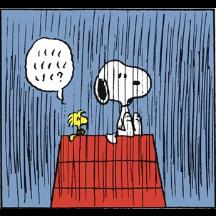snoopy: (92, 58, 152, 144)
